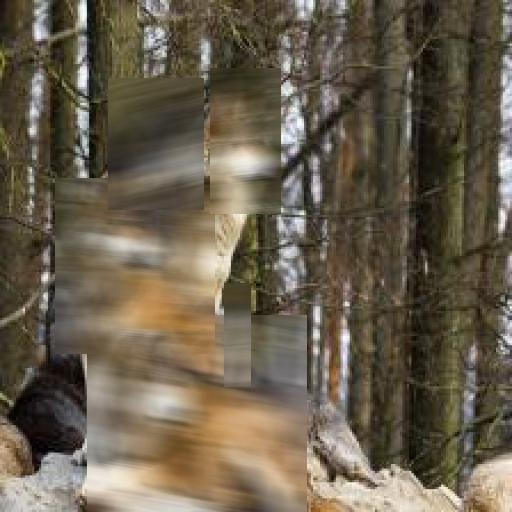wolf: (87, 315, 307, 512), (55, 178, 215, 354), (108, 78, 204, 210), (210, 68, 281, 214), (224, 284, 251, 388)
